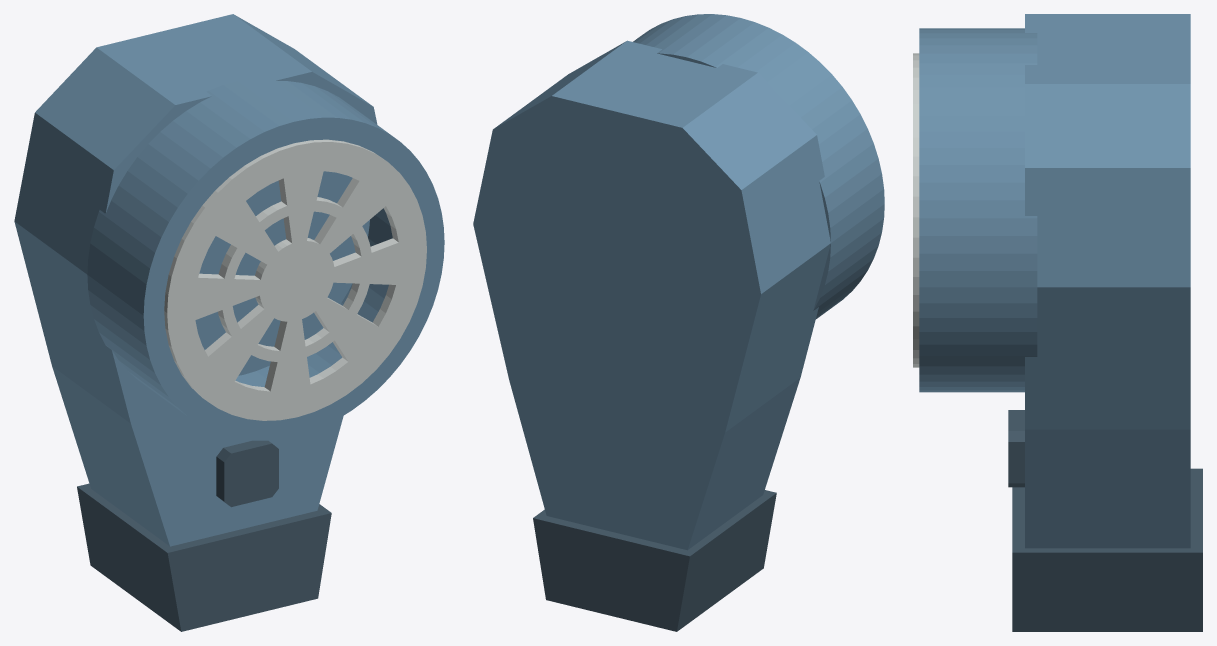
3 views of the same model, side by side, from view 1: azimuth 30°, elevation 25°; view 2: azimuth 150°, elevation 25°; view 3: azimuth 270°, elevation 25° (orthographic). The views are drawn at different scales.
Parts seen in each view (by area): view 1: WholeTaperedPodHousing, WholeSixteenSlotFiniteCircularGrille, WholeAnnularFrontHeadShroud, WholeOpaqueLowerCollectorCap, WholeBlankLowerFrontControl; view 2: WholeTaperedPodHousing, WholeAnnularFrontHeadShroud, WholeOpaqueLowerCollectorCap; view 3: WholeTaperedPodHousing, WholeAnnularFrontHeadShroud, WholeOpaqueLowerCollectorCap, WholeSixteenSlotFiniteCircularGrille, WholeBlankLowerFrontControl.
Boxes of the visible parts, bbox=[...] form: WholeTaperedPodHousing: bbox=[14, 14, 377, 546]; WholeSixteenSlotFiniteCircularGrille: bbox=[164, 139, 426, 420]; WholeAnnularFrontHeadShroud: bbox=[87, 76, 444, 440]; WholeOpaqueLowerCollectorCap: bbox=[77, 483, 331, 631]; WholeBlankLowerFrontControl: bbox=[216, 440, 278, 507]; WholeTaperedPodHousing: bbox=[473, 40, 830, 550]; WholeAnnularFrontHeadShroud: bbox=[633, 14, 884, 319]; WholeOpaqueLowerCollectorCap: bbox=[533, 490, 776, 631]; WholeTaperedPodHousing: bbox=[1025, 14, 1190, 548]; WholeAnnularFrontHeadShroud: bbox=[919, 28, 1037, 392]; WholeOpaqueLowerCollectorCap: bbox=[1012, 468, 1202, 631]; WholeSixteenSlotFiniteCircularGrille: bbox=[913, 53, 919, 367]; WholeBlankLowerFrontControl: bbox=[1008, 410, 1024, 487].
Bounding box in the file's own units: 0.088 × 0.147 × 0.07.
